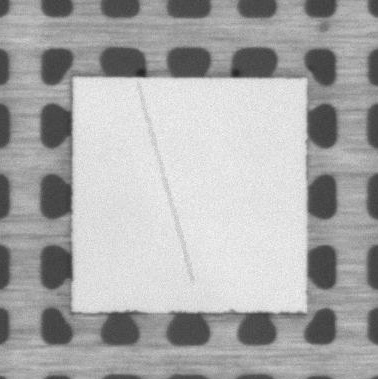DIE_CRACK: (138, 84, 192, 281)
